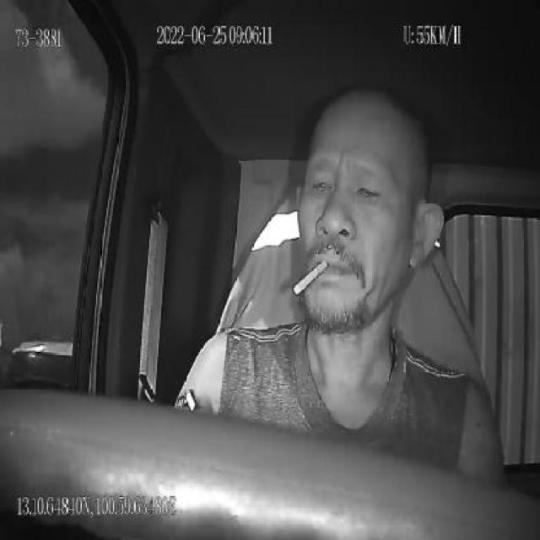smoking: (292, 257, 328, 295)
